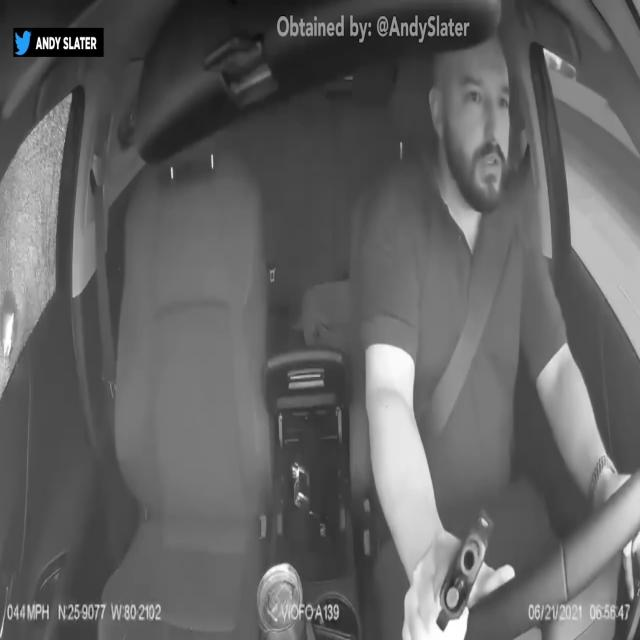senjata_api: (434, 506, 497, 634)
